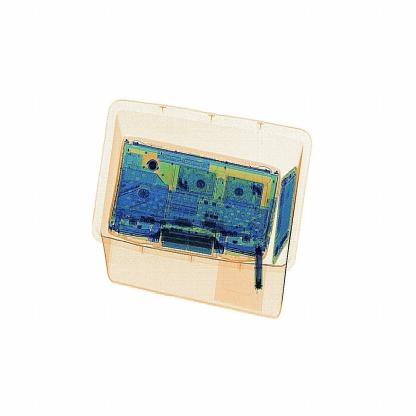scissors: (231, 235, 273, 297)
